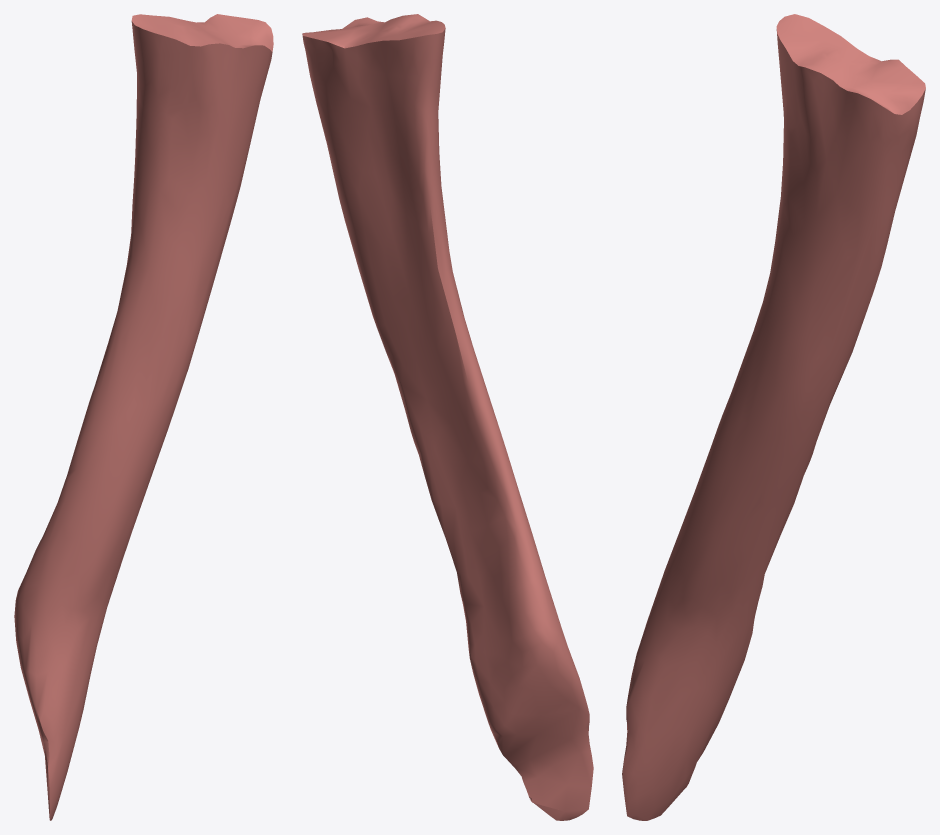
Rendered from fma62427_mm1820.glb.
3 views of the same model, side by side, from view 1: azimuth 30°, elevation 25°; view 2: azimuth 150°, elevation 25°; view 3: azimuth 330°, elevation 25° (orthographic). The views are drawn at different scales.
Parts seen in each view (by area): view 1: FMA62427_MM1820; view 2: FMA62427_MM1820; view 3: FMA62427_MM1820.
Part boxes in pixels (box(x1,y1,x2,y2)): FMA62427_MM1820: box(14, 14, 273, 820); FMA62427_MM1820: box(302, 14, 593, 820); FMA62427_MM1820: box(622, 14, 925, 820).
Size of the model in its own units: 0.0291 by 0.0822 by 0.00918.
